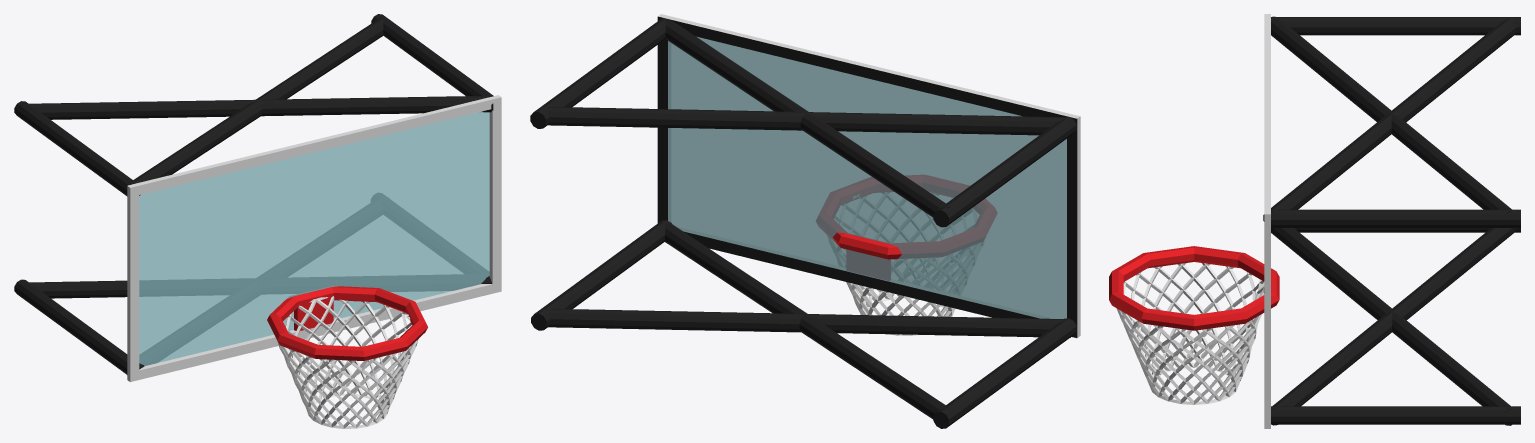
File: basketballHoop.glb
The picture shows the model from 3 angles, left to right: view 1: azimuth 30°, elevation 25°; view 2: azimuth 150°, elevation 25°; view 3: azimuth 270°, elevation 25°; orthographic projection. The views are drawn at different scales.
Parts seen in each view (by area): view 1: Cube; view 2: Cube; view 3: Cube.
Boxes of the visible parts, x1,y1,x2,y2 form: Cube: (14, 14, 501, 428); Cube: (530, 14, 1080, 428); Cube: (1109, 14, 1520, 428).
Bounding box in the file's own units: 4 × 2.54 × 3.48.
